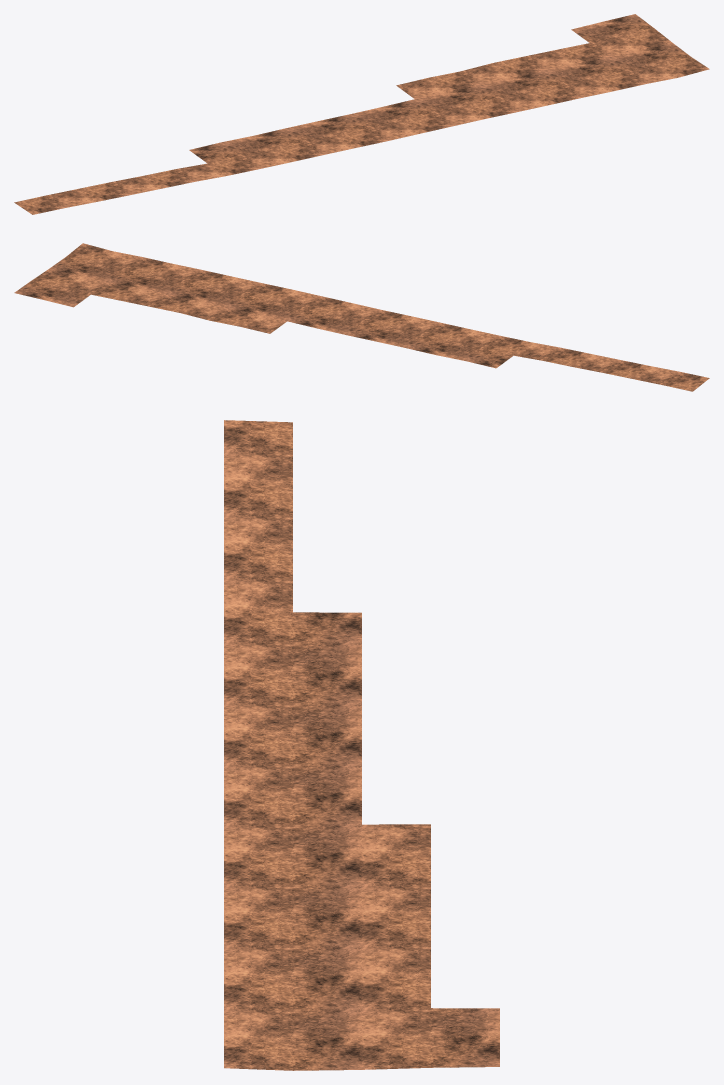
Rendered from terrain_12_14.dae.
The picture shows the model from 3 angles, top to bottom: view 1: azimuth 30°, elevation 25°; view 2: azimuth 150°, elevation 25°; view 3: azimuth 270°, elevation 25°; orthographic projection. The views are drawn at different scales.
Parts seen in each view (by area): view 1: terrain_12_14-node; view 2: terrain_12_14-node; view 3: terrain_12_14-node.
Boxes of the visible parts, x1,y1,x2,y2 form: terrain_12_14-node: [14, 14, 709, 214]; terrain_12_14-node: [14, 243, 709, 391]; terrain_12_14-node: [224, 420, 499, 1070].
Size of the model in its own units: 84 by 16 by 2.48.
1 material, 1 textured.
